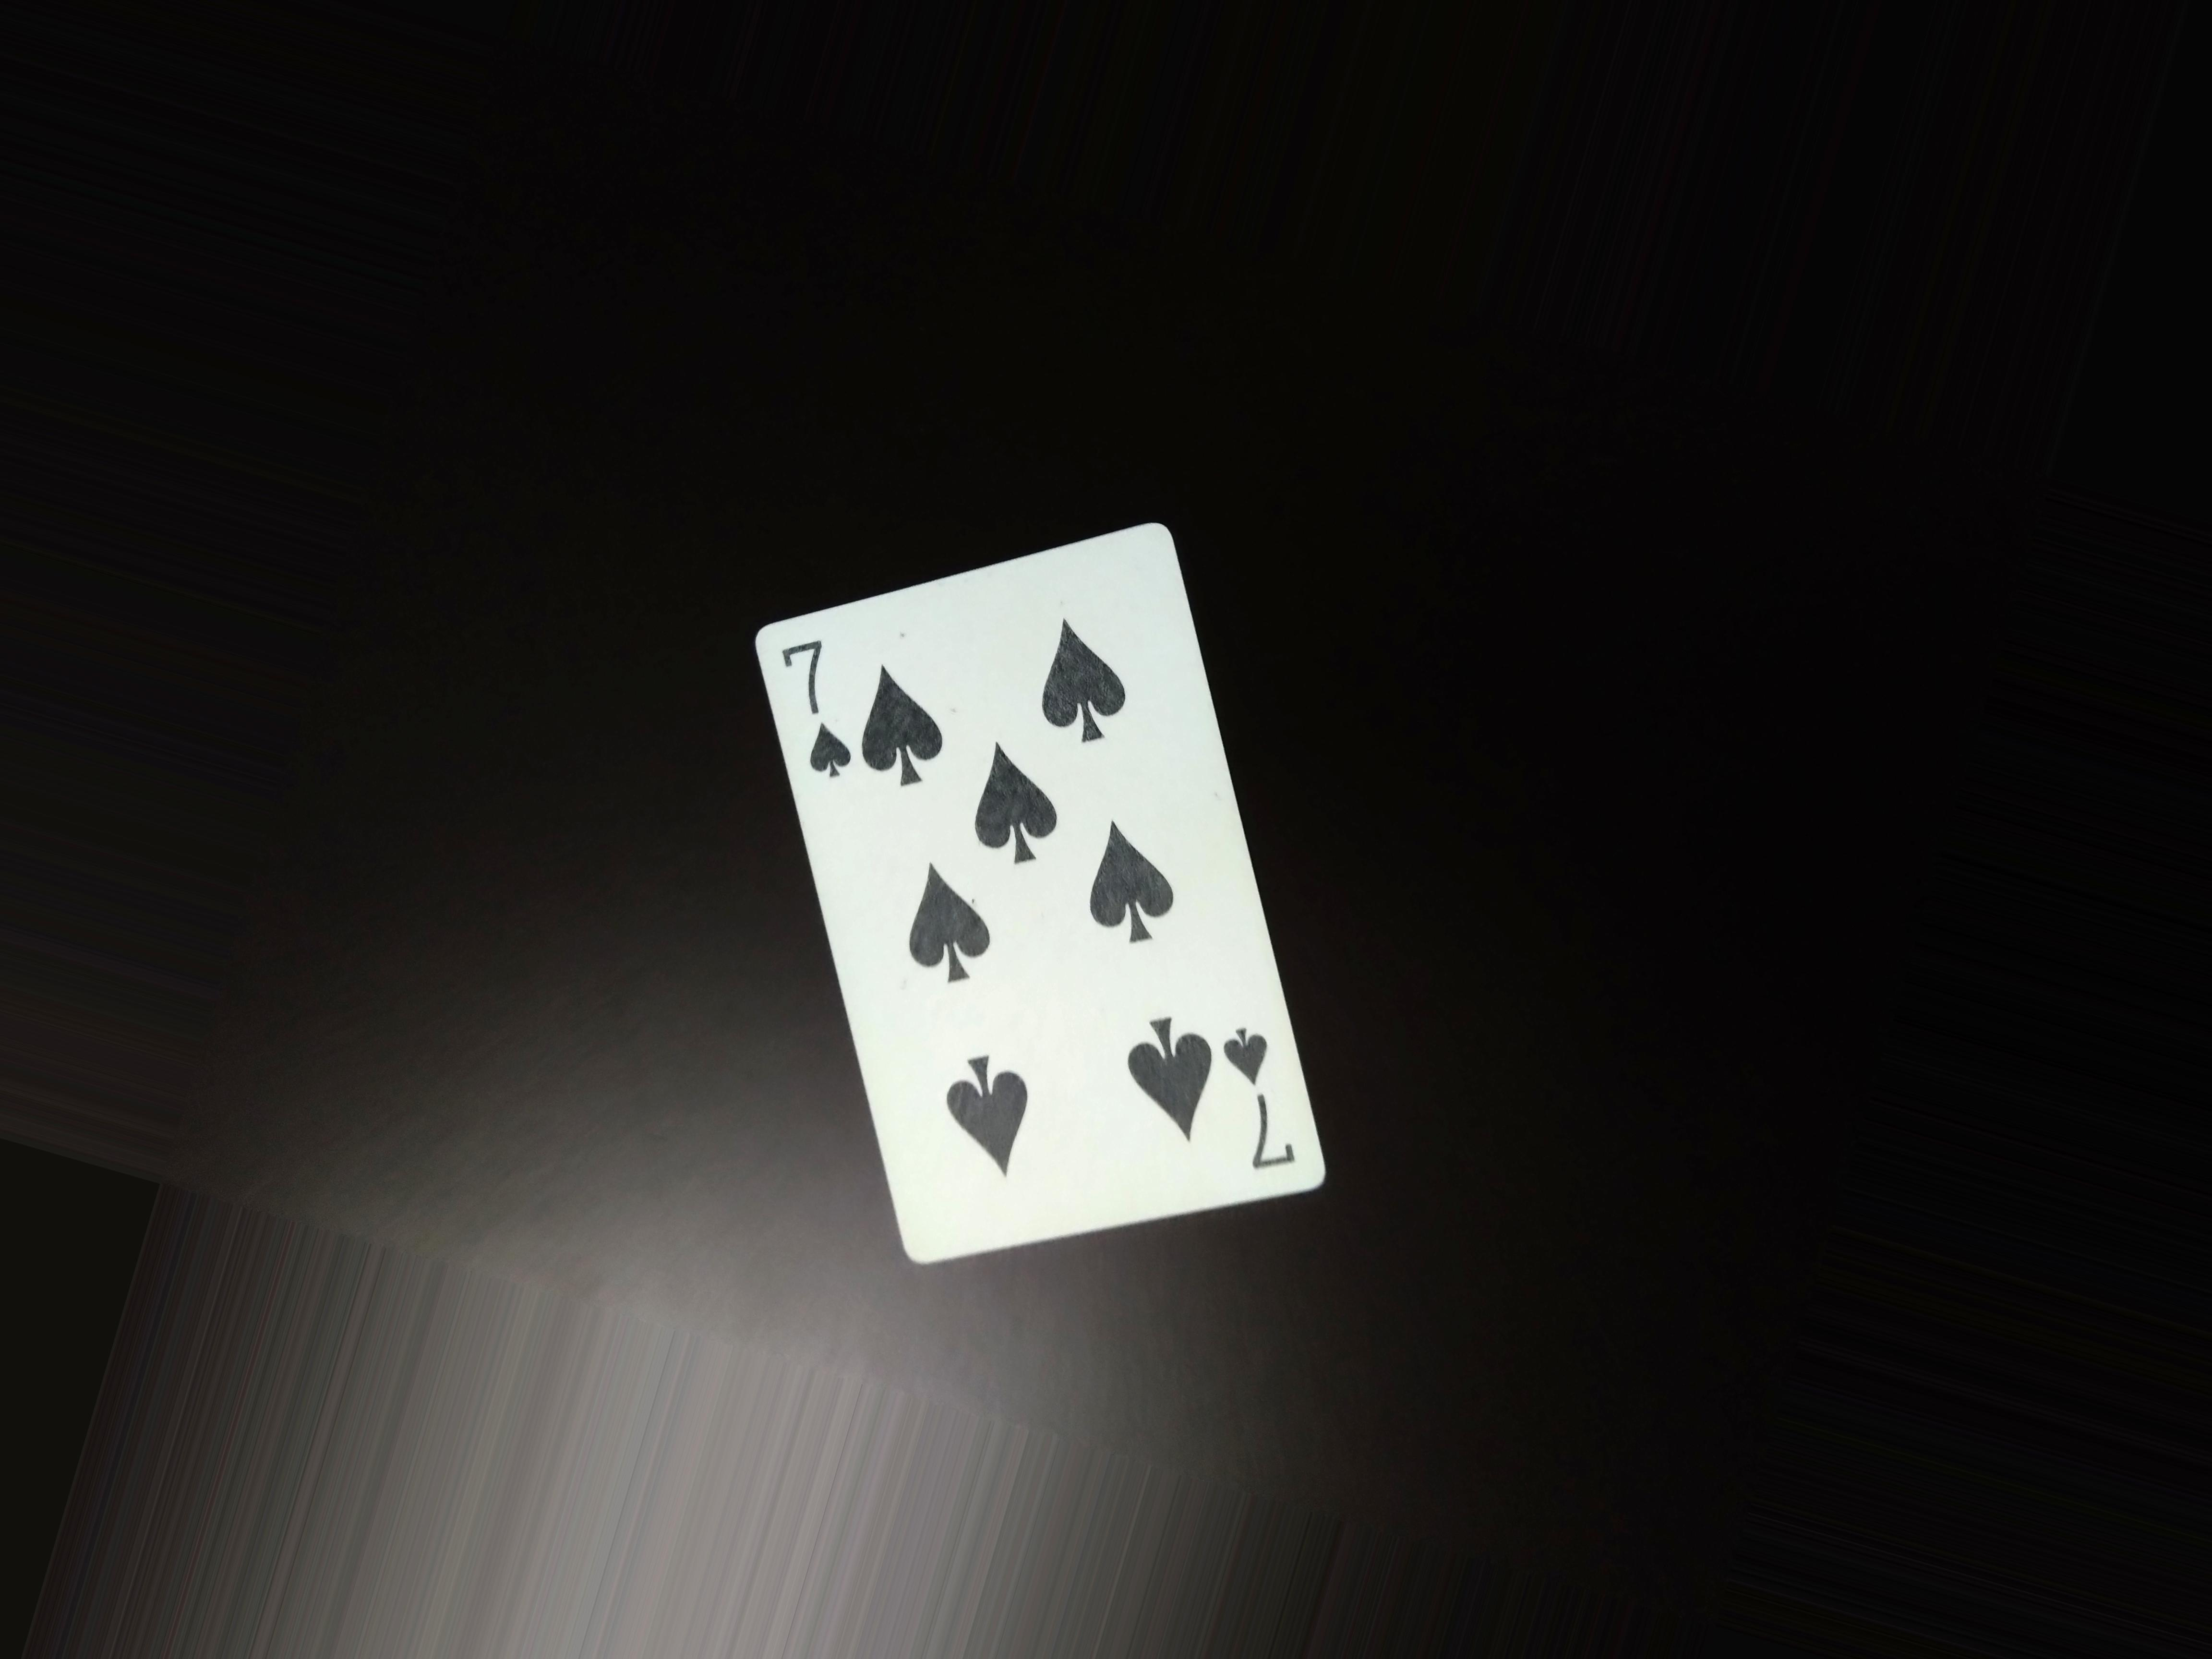7S: (1219, 1006, 1325, 1190)
